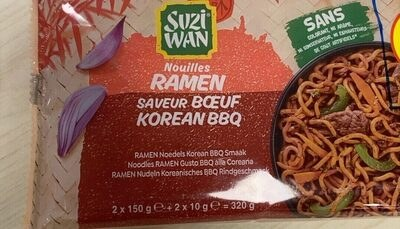Nouilles Ramen savoeur Boeuf Korean BBQ: (20, 11, 380, 218)
